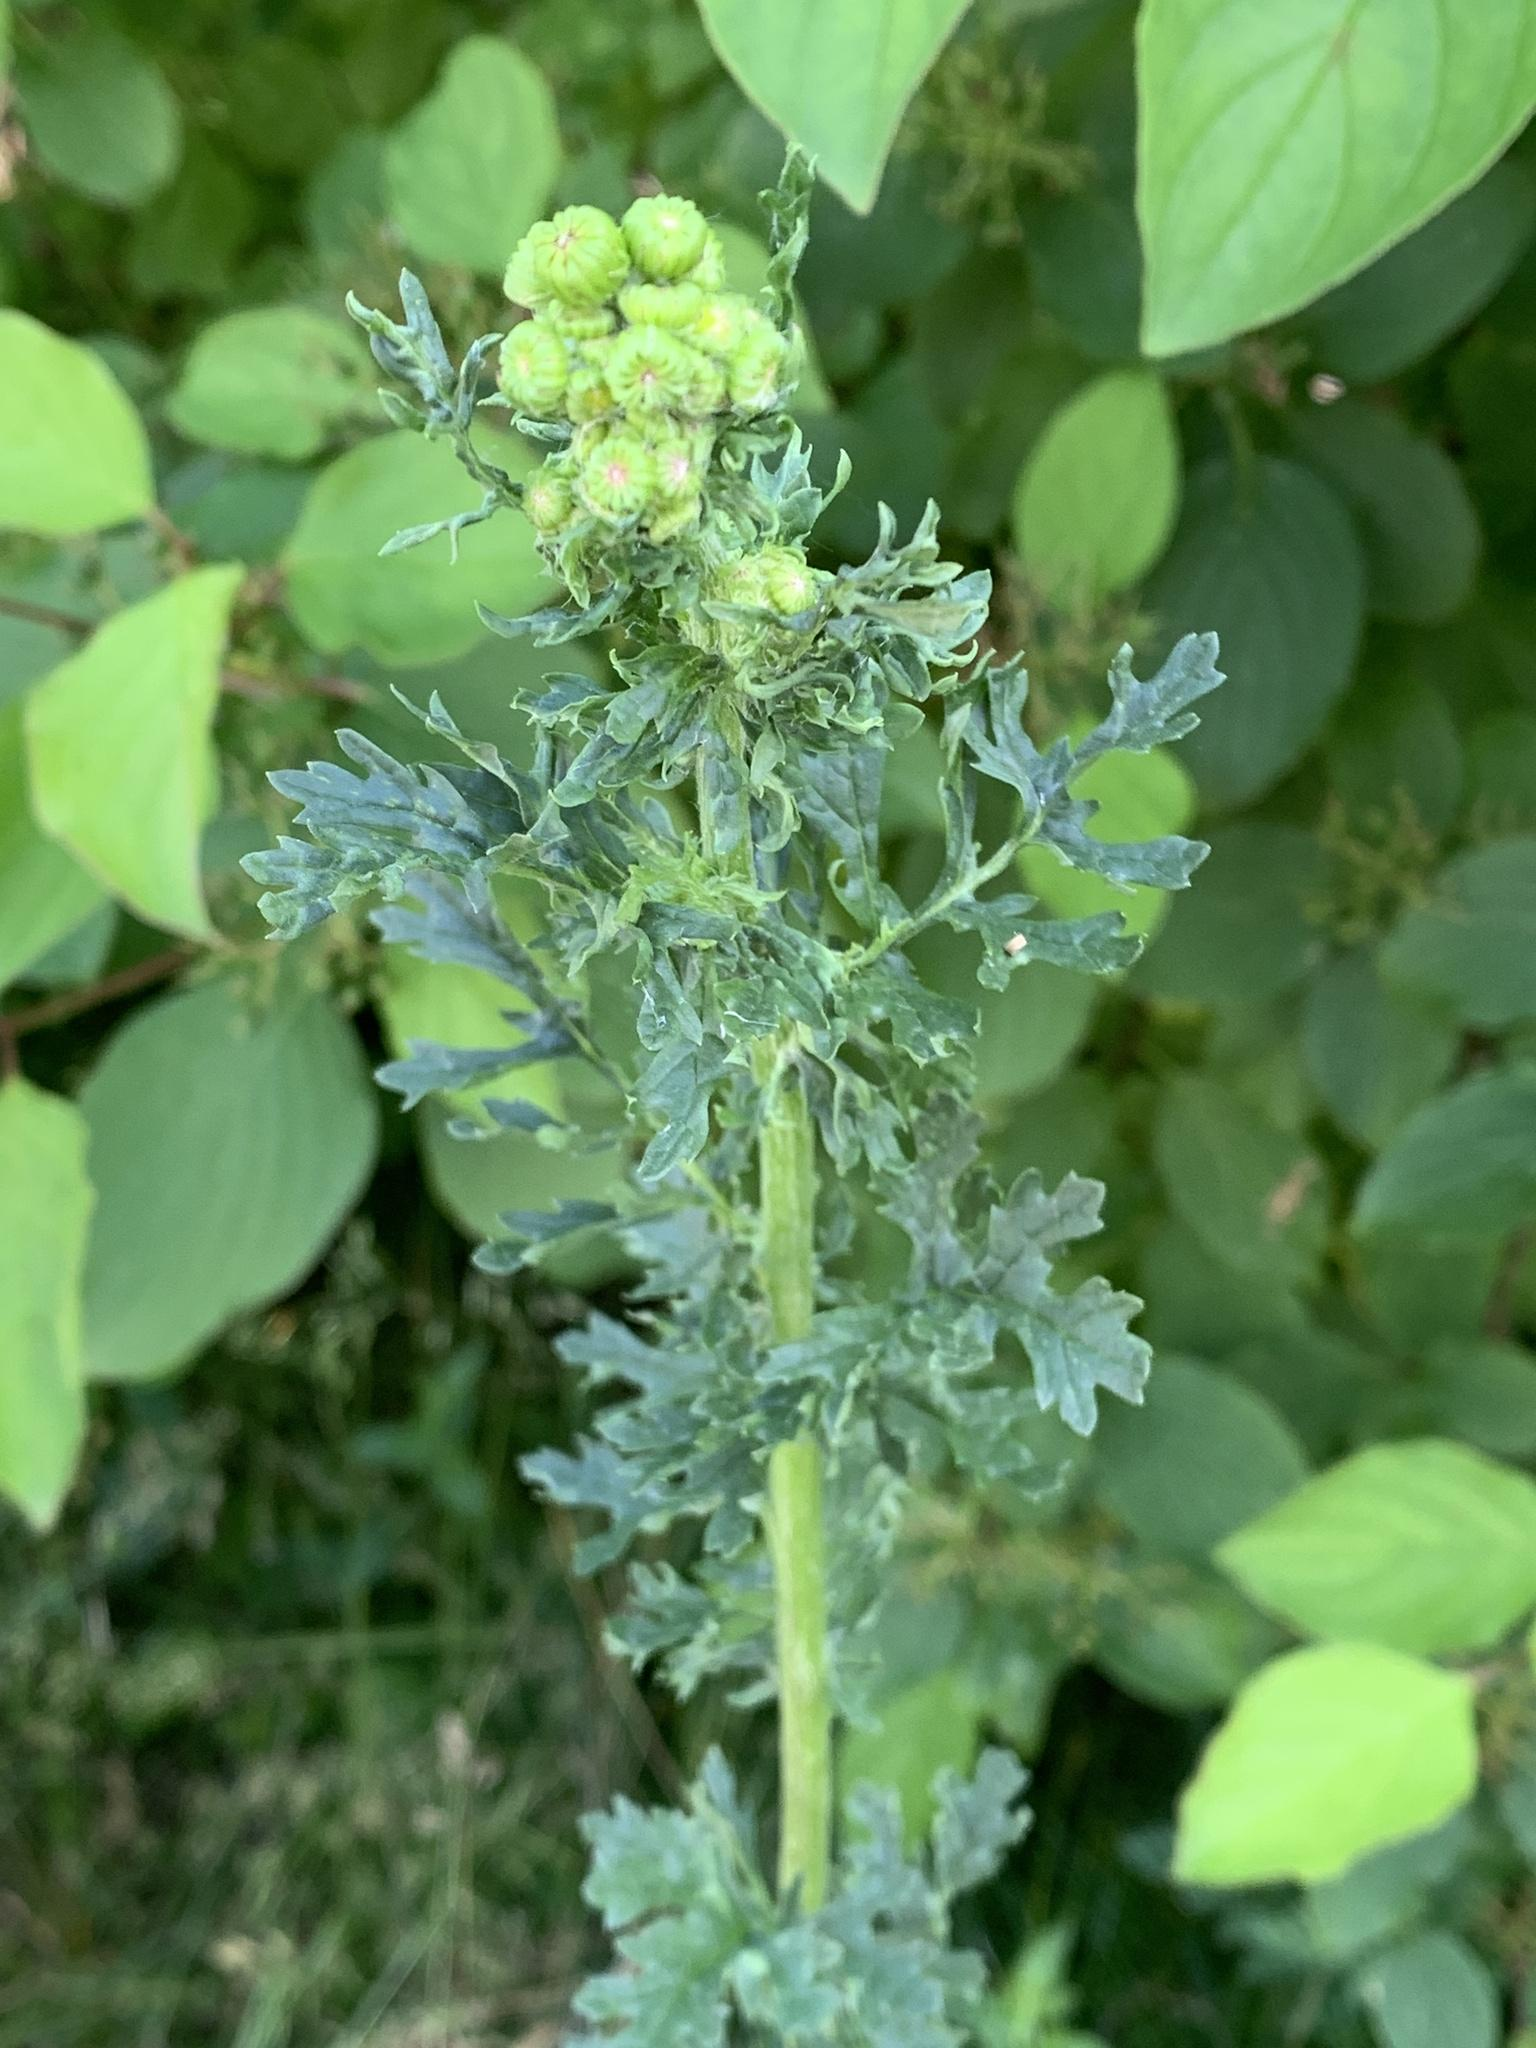Jacobaea vulgaris: (216, 144, 1279, 2048)
